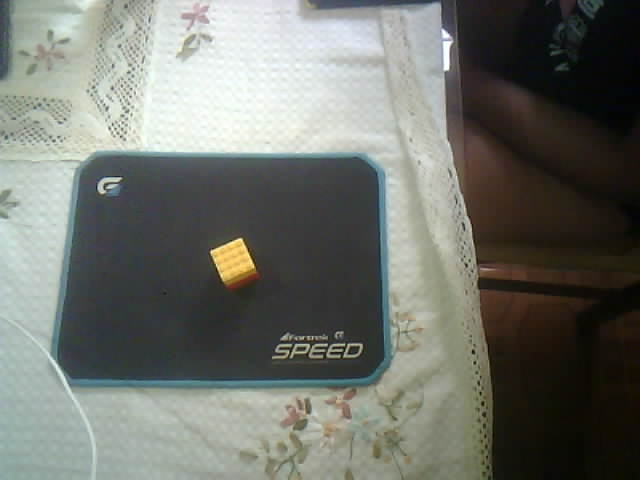lego: (208, 238, 261, 292)
